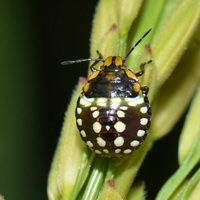insect: (61, 28, 151, 156)
